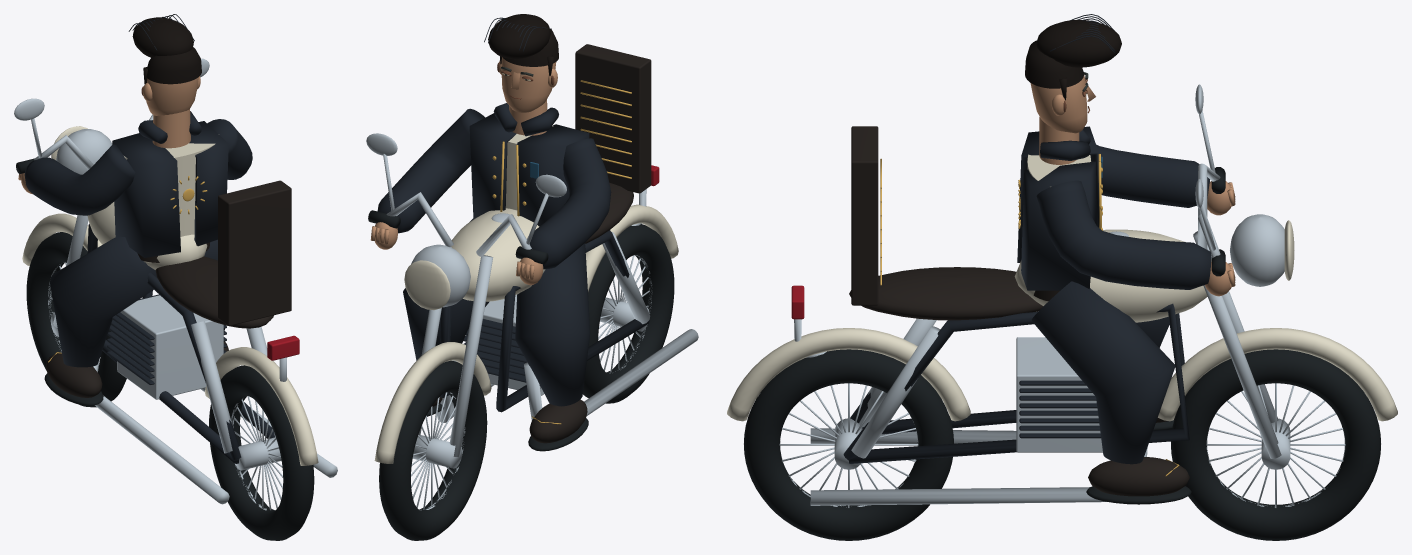
3 renders of one model, left to right at view 1: azimuth 30°, elevation 25°; view 2: azimuth 150°, elevation 25°; view 3: azimuth 270°, elevation 25°, orthographic. The views are drawn at different scales.
Visible parts, largest first — view 1: YR_TallSeatBack, YR_Tire, YR_Bontan, YR_TanranJacket, YR_Engine, YR_JacketSleeve, YR_Tire.001, YR_TanranJacket.001, YR_SteppedSeat, YR_Fender, YR_Frame, YR_Exhaust (+21 smaller); view 2: YR_Tire.001, YR_TallSeatBack, YR_Bontan, YR_Tire, YR_JacketSleeve, YR_JacketSleeve.001, YR_FuelTank, YR_TanranJacket, YR_Fender.001, YR_TanranJacket.001, YR_Frame, YR_FrontFork (+26 smaller); view 3: YR_Tire.001, YR_Tire, YR_Bontan.001, YR_JacketSleeve.001, YR_SteppedSeat, YR_Fender, YR_Fender.001, YR_Engine, YR_Frame.001, YR_TanranJacket.001, YR_TallSeatBack, YR_JacketSleeve (+17 smaller).
Boxes of the visible parts, box(x1,y1,x2,y2) form: YR_TallSeatBack: box(218, 180, 291, 325); YR_Tire: box(209, 365, 314, 540); YR_Bontan: box(50, 236, 156, 367); YR_TanranJacket: box(112, 133, 180, 257); YR_Engine: box(117, 295, 223, 399); YR_JacketSleeve: box(24, 144, 135, 215); YR_Tire.001: box(26, 232, 126, 407); YR_TanranJacket.001: box(189, 121, 228, 246); YR_SteppedSeat: box(155, 256, 273, 328); YR_Fender: box(204, 347, 318, 465); YR_Frame: box(87, 224, 241, 463); YR_Exhaust: box(93, 358, 229, 504); YR_Tire.001: box(379, 360, 487, 540); YR_TallSeatBack: box(575, 44, 651, 193); YR_Bontan: box(515, 243, 590, 406); YR_Tire: box(583, 224, 674, 403); YR_JacketSleeve: box(527, 138, 611, 269); YR_JacketSleeve.001: box(377, 108, 484, 233); YR_FuelTank: box(451, 208, 545, 301); YR_TanranJacket: box(517, 124, 589, 226); YR_Fender.001: box(374, 342, 491, 463); YR_TanranJacket.001: box(469, 113, 516, 219); YR_Frame: box(496, 230, 649, 412); YR_FrontFork: box(449, 255, 493, 457); YR_Tire.001: box(1171, 349, 1380, 540); YR_Tire: box(744, 349, 953, 540); YR_Bontan.001: box(1031, 281, 1175, 464); YR_JacketSleeve.001: box(1036, 180, 1211, 289); YR_SteppedSeat: box(849, 267, 1043, 320); YR_Fender: box(727, 328, 970, 421); YR_Fender.001: box(1158, 328, 1397, 421); YR_Engine: box(1016, 337, 1102, 452); YR_Frame.001: box(843, 303, 1189, 463); YR_TanranJacket.001: box(1021, 161, 1096, 290); YR_TallSeatBack: box(851, 126, 878, 305); YR_JacketSleeve: box(1096, 144, 1209, 207).
Bounding box in the file's own units: 0.83 × 1.78 × 2.1.
